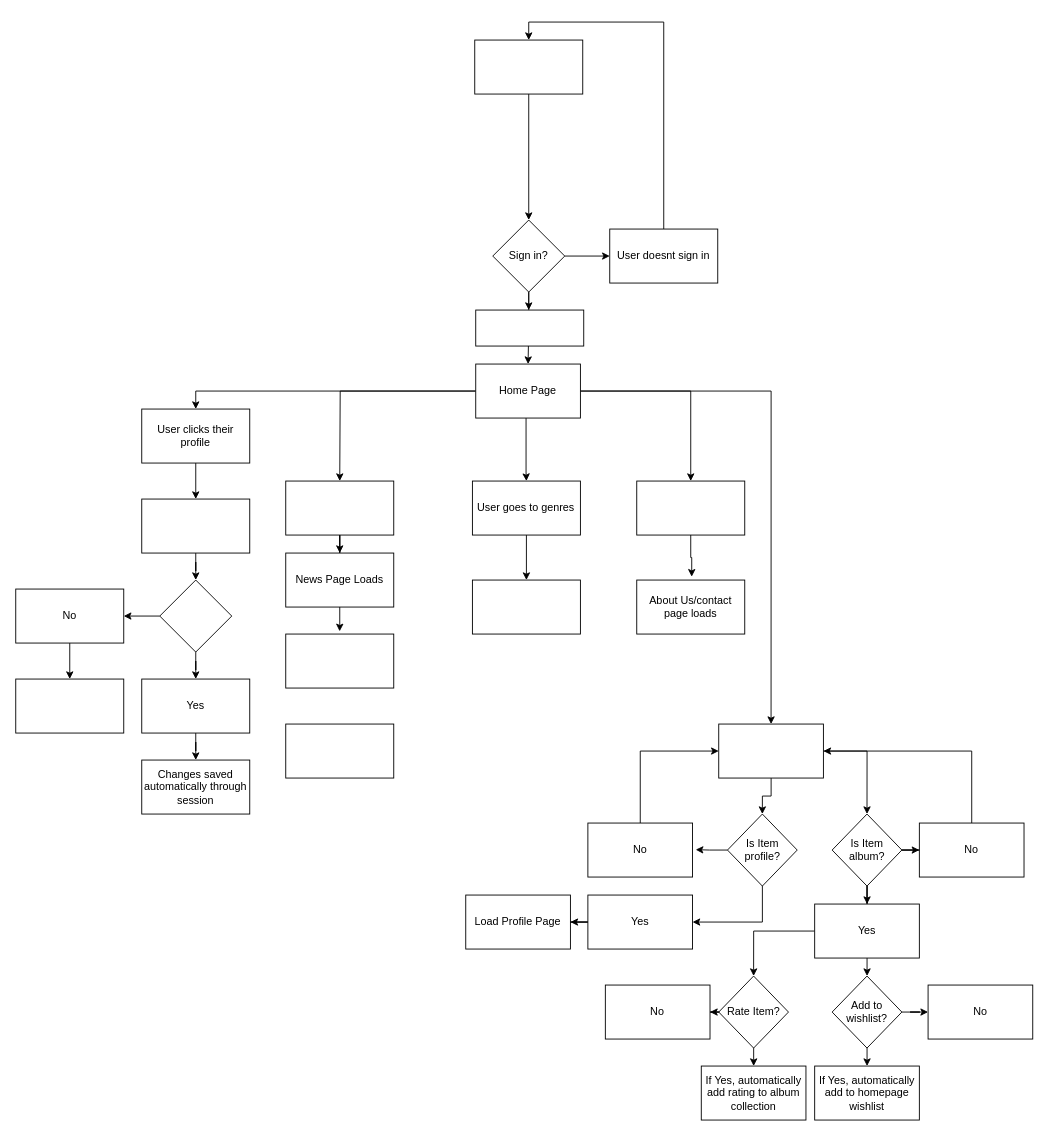
The diagram is 1049 pixels wide and 1136 high, and some of its shapes have lost their labels. The shapes that lost their labels are listed below. From the top down, each one's centre as x and y in pixels, then its label:
point 528,66: User enters website
point 529,327: User Signs in and loads home page
point 195,525: Profile and Settings Load
point 339,507: User goes to News
point 690,507: User goes to about us/contact
point 195,615: Change Profile / Setting?
point 526,606: Genre chosen appears as a search result
point 339,660: User clicks on headline
point 69,705: No Changes made, defaults are kept
point 339,750: Headline redirects to news publication
point 770,750: User goes to search bar to find item
